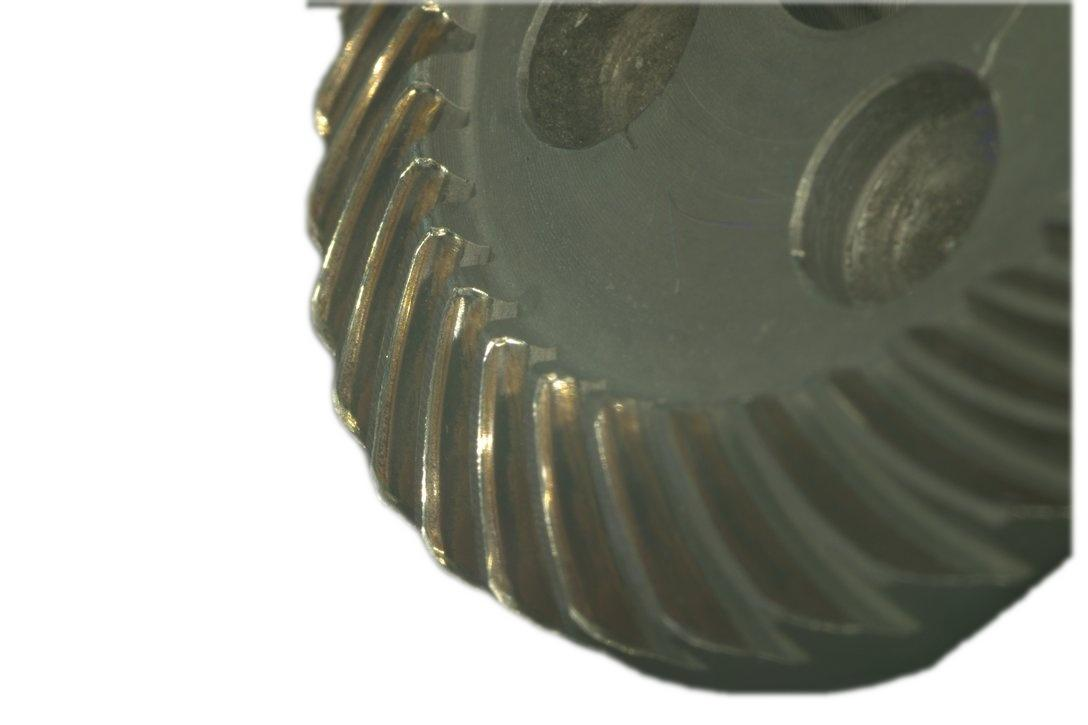defect: (306, 0, 437, 240), (328, 148, 433, 433), (311, 86, 427, 335), (366, 226, 461, 497), (412, 289, 472, 565), (592, 394, 667, 606), (308, 1, 388, 137), (533, 371, 580, 598), (477, 332, 517, 596)
